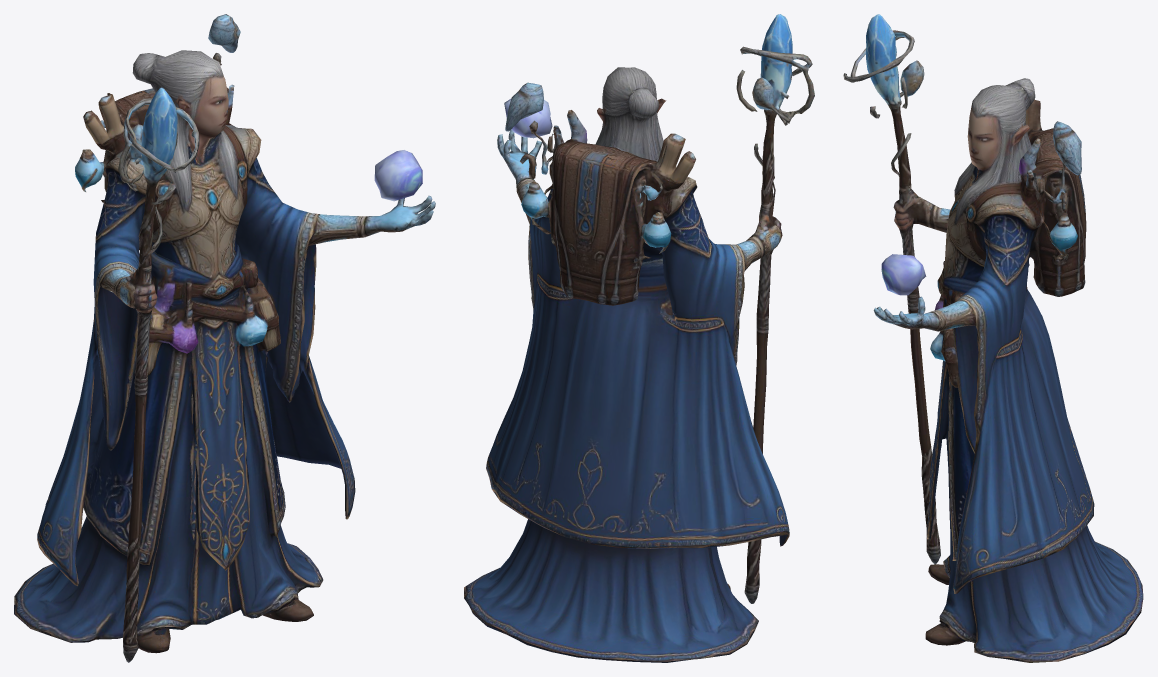
File: Mago.glb
The picture shows the model from 3 angles, left to right: view 1: azimuth 30°, elevation 25°; view 2: azimuth 150°, elevation 25°; view 3: azimuth 270°, elevation 25°; orthographic projection. The views are drawn at different scales.
Parts seen in each view (by area): view 1: tripo_node_81b1e236-417f-44be-bacf-bdda00d72a4f; view 2: tripo_node_81b1e236-417f-44be-bacf-bdda00d72a4f; view 3: tripo_node_81b1e236-417f-44be-bacf-bdda00d72a4f.
Part boxes in pixels (x1=…): tripo_node_81b1e236-417f-44be-bacf-bdda00d72a4f: x1=14, y1=14, x2=435, y2=662; tripo_node_81b1e236-417f-44be-bacf-bdda00d72a4f: x1=464, y1=14, x2=814, y2=662; tripo_node_81b1e236-417f-44be-bacf-bdda00d72a4f: x1=843, y1=14, x2=1143, y2=662.
Size of the model in its own units: 0.5936 by 0.9846 by 0.4837.
1 material, 1 textured.
